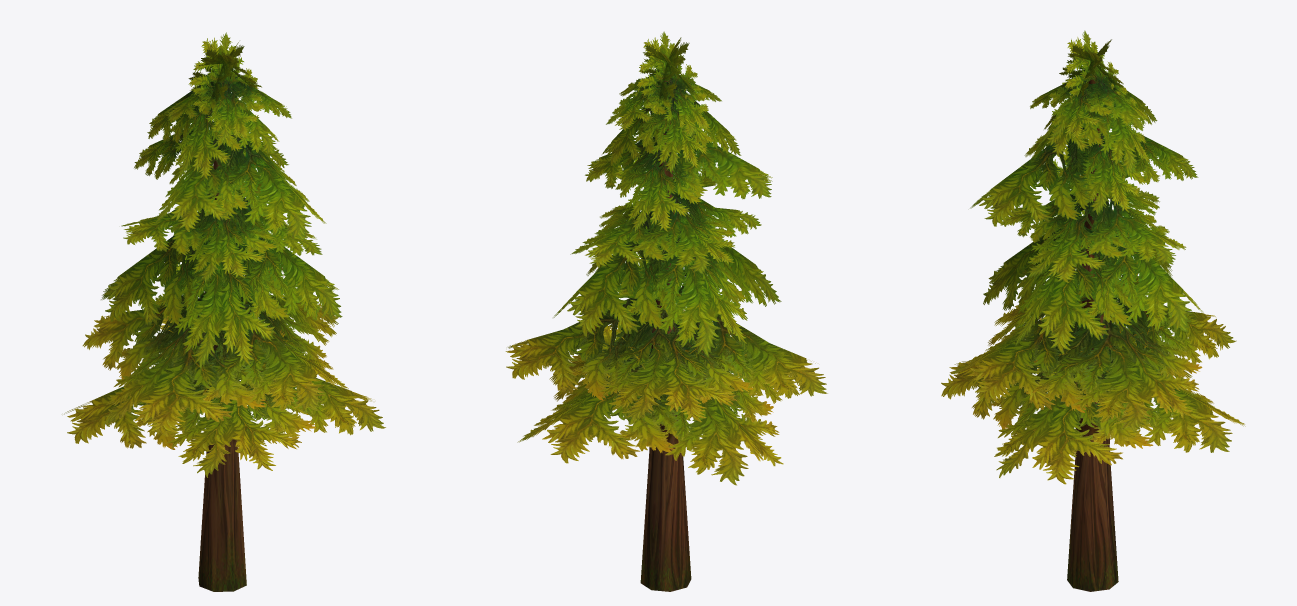
The model's file is S_Tree_Yellow018.FBX.
3 views of the same model, side by side, from view 1: azimuth 30°, elevation 25°; view 2: azimuth 150°, elevation 25°; view 3: azimuth 270°, elevation 25° (orthographic).
Parts seen in each view (by area): view 1: S_Tree_Yellow018; view 2: S_Tree_Yellow018; view 3: S_Tree_Yellow018.
Part boxes in pixels (bbox=[...]): S_Tree_Yellow018: bbox=[64, 32, 385, 591]; S_Tree_Yellow018: bbox=[505, 31, 827, 591]; S_Tree_Yellow018: bbox=[941, 30, 1245, 591].
Size of the model in its own units: 295 by 475 by 292.
